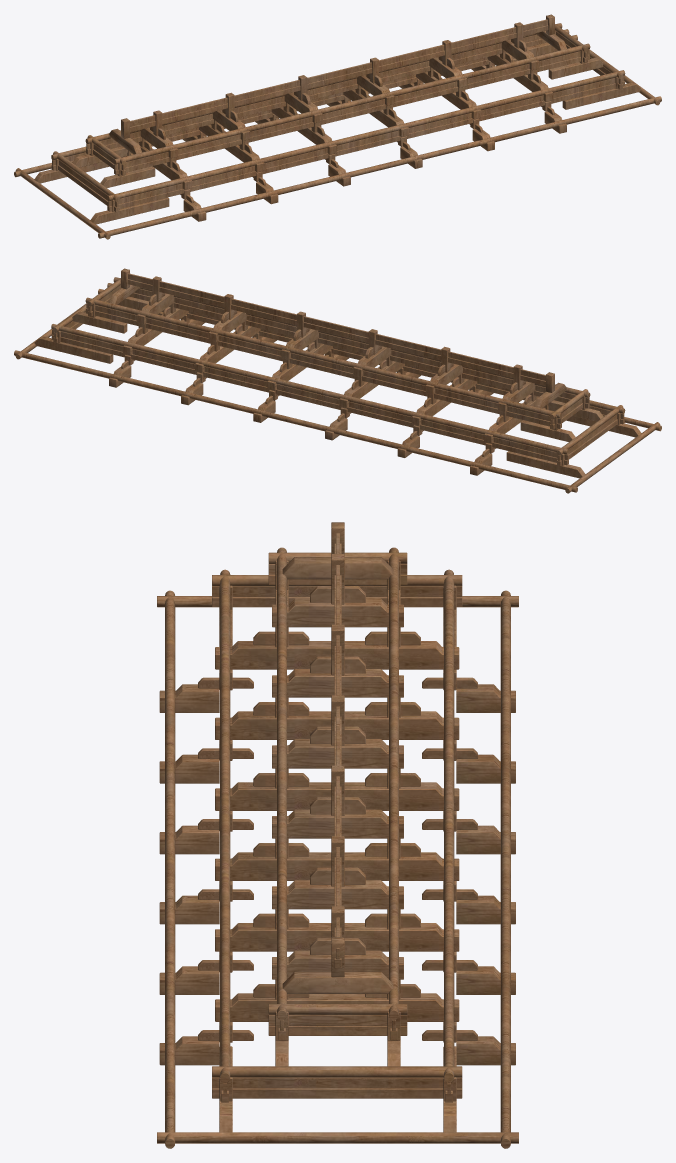
Rendered from 抬梁式构架.gltf.
3 renders of one model, top to bottom at view 1: azimuth 30°, elevation 25°; view 2: azimuth 150°, elevation 25°; view 3: azimuth 270°, elevation 25°, orthographic. The views are drawn at different scales.
Parts seen in each view (by area): view 1: 抬梁式; view 2: 抬梁式; view 3: 抬梁式.
Boxes of the visible parts, left/top/right/bottom form: 抬梁式: left=14, top=14, right=661, bottom=239; 抬梁式: left=14, top=268, right=661, bottom=493; 抬梁式: left=157, top=522, right=518, bottom=1148.
Bounding box in the file's own units: 5.6 × 0.7283 × 1.56.
1 material, 1 textured.
